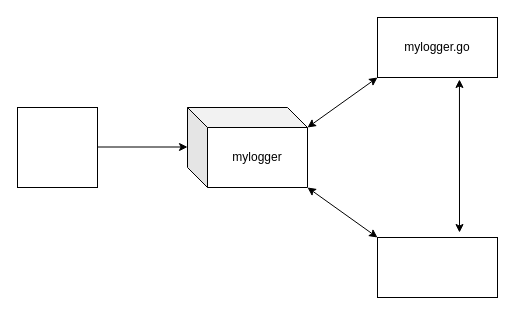
Some shapes in this 515 by 315 pixel diagram are drawn without their labels. The shapes that lost their labels are listed below. From the top down, each one's centre as x and y in pixels, then its label:
At point (57, 147): "main".
At point (437, 267): "console.go".
